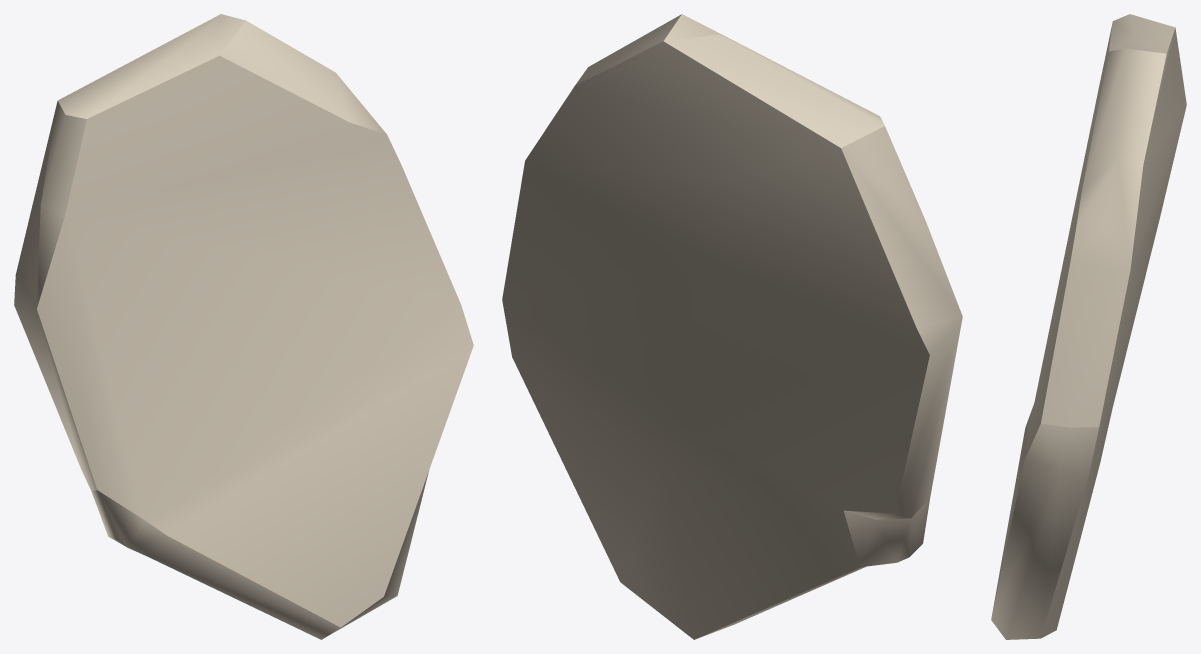
File: shield-base.glb
The picture shows the model from 3 angles, left to right: view 1: azimuth 30°, elevation 25°; view 2: azimuth 150°, elevation 25°; view 3: azimuth 270°, elevation 25°; orthographic projection. The views are drawn at different scales.
Bounding box in the file's own units: 1.75 × 2.35 × 0.7287.
